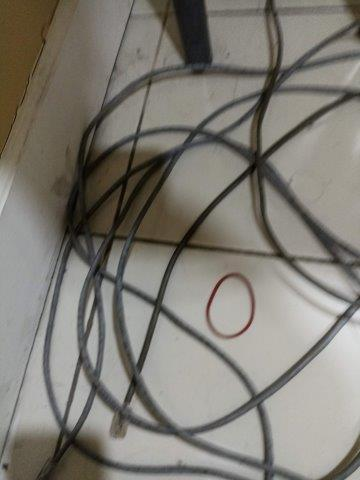karet: (206, 272, 256, 340)
